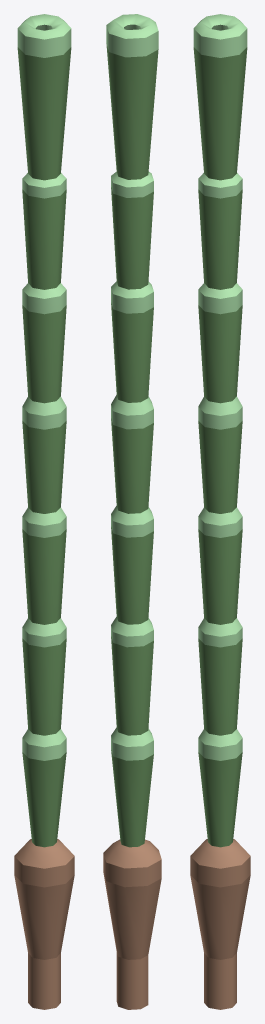
3 views of the same model, side by side, from view 1: azimuth 90°, elevation 25°; view 2: azimuth 210°, elevation 25°; view 3: azimuth 270°, elevation 25° (orthographic).
Parts seen in each view (by area): view 1: Cylinder; view 2: Cylinder; view 3: Cylinder.
Boxes of the visible parts, <box> form: Cylinder: <box>14,14,74,1009</box>; Cylinder: <box>103,14,161,1009</box>; Cylinder: <box>190,14,250,1009</box>.
Bounding box in the file's own units: 36.94 × 660 × 36.94.
